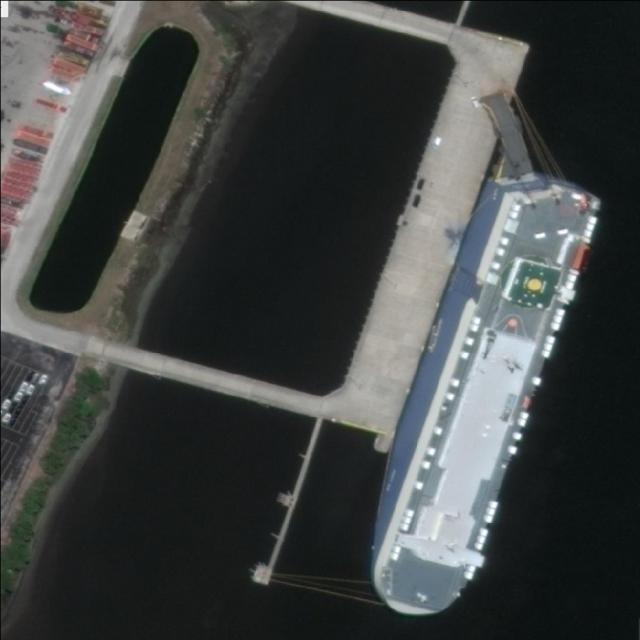RoRo: (348, 154, 606, 634)
